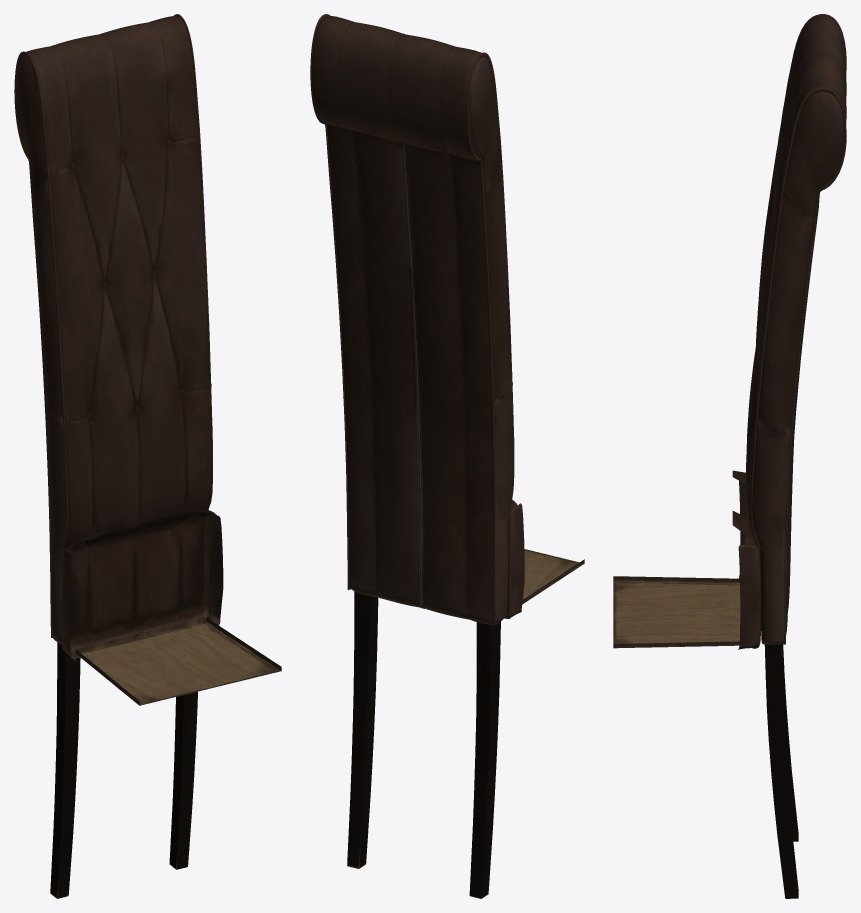
Rendered from chair_back.glb.
3 views of the same model, side by side, from view 1: azimuth 30°, elevation 25°; view 2: azimuth 150°, elevation 25°; view 3: azimuth 270°, elevation 25° (orthographic). The views are drawn at different scales.
Visible parts, largest first — view 1: dining_chair_02.002; view 2: dining_chair_02.002; view 3: dining_chair_02.002.
Part boxes in pixels (x1,y1,x2,y2): dining_chair_02.002: (14,14,281,898); dining_chair_02.002: (310,14,584,898); dining_chair_02.002: (613,14,846,898).
Bounding box in the file's own units: 9.89 × 47.9 × 12.41.
Materials: 1 (1 with a texture image).
